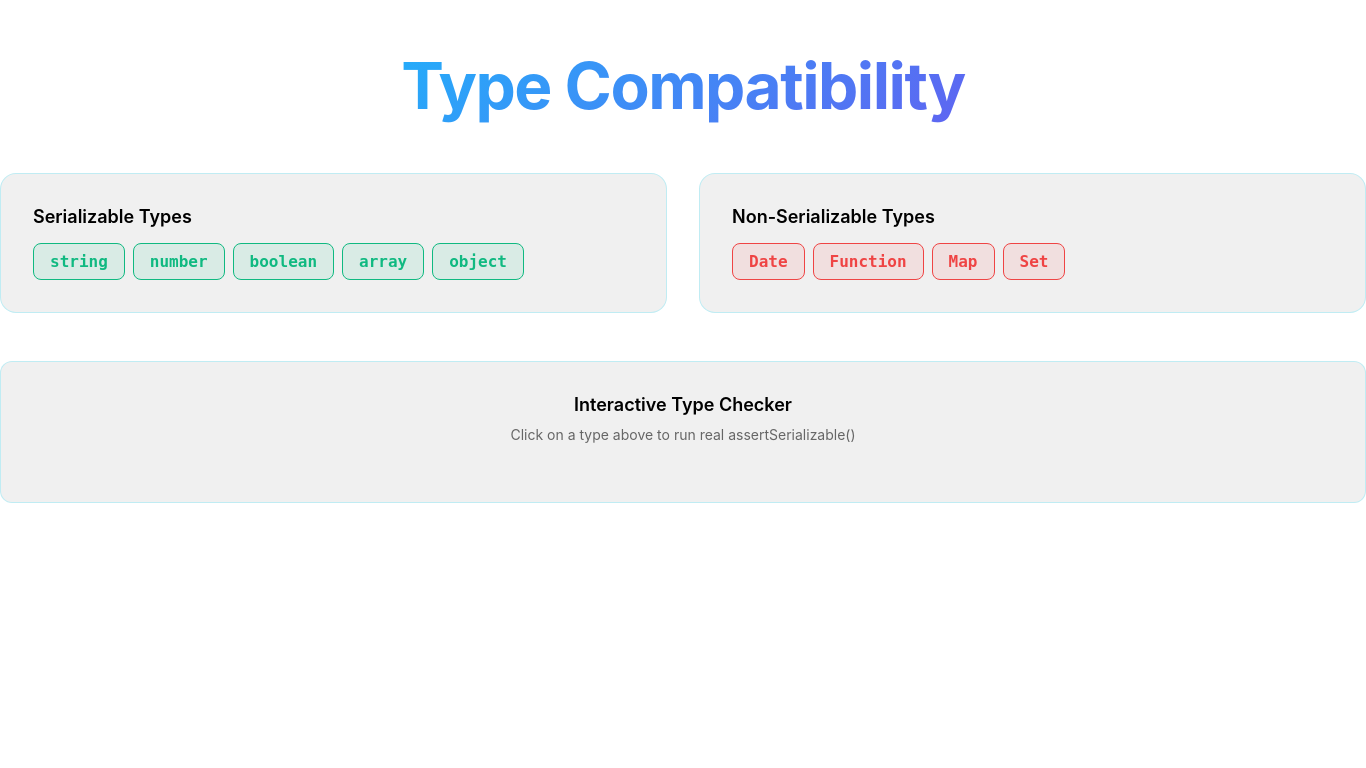
Test: TypeDemo › real runtime validation › should show validation passed message for serializable number type
The width and height of the screenshot is (1366, 768).
Click the button with test id "type-card-number".
click(179, 262)  # box [133,243,225,280]
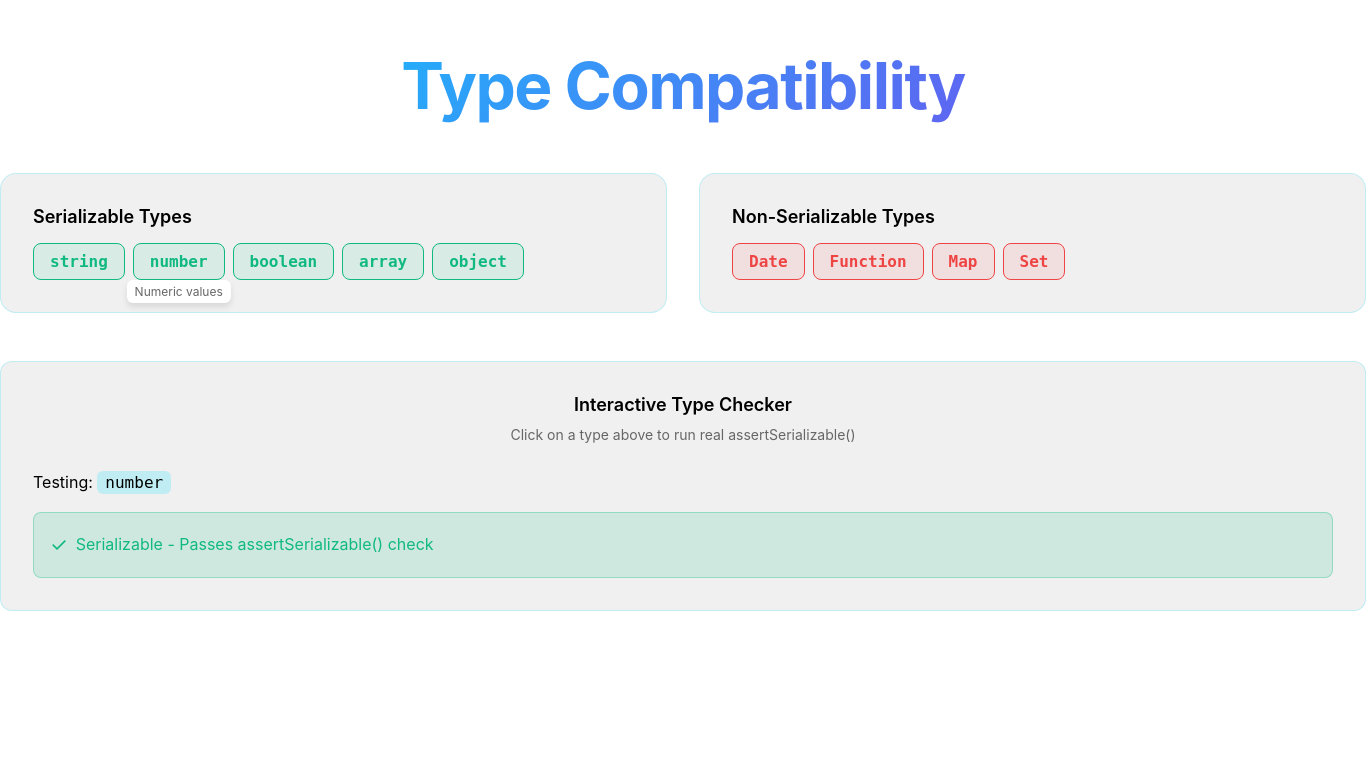
Expected: the element with test id "validation-output" reads "✓ Serializable - Passes assertSerializable() check", [76,534,434,554]
